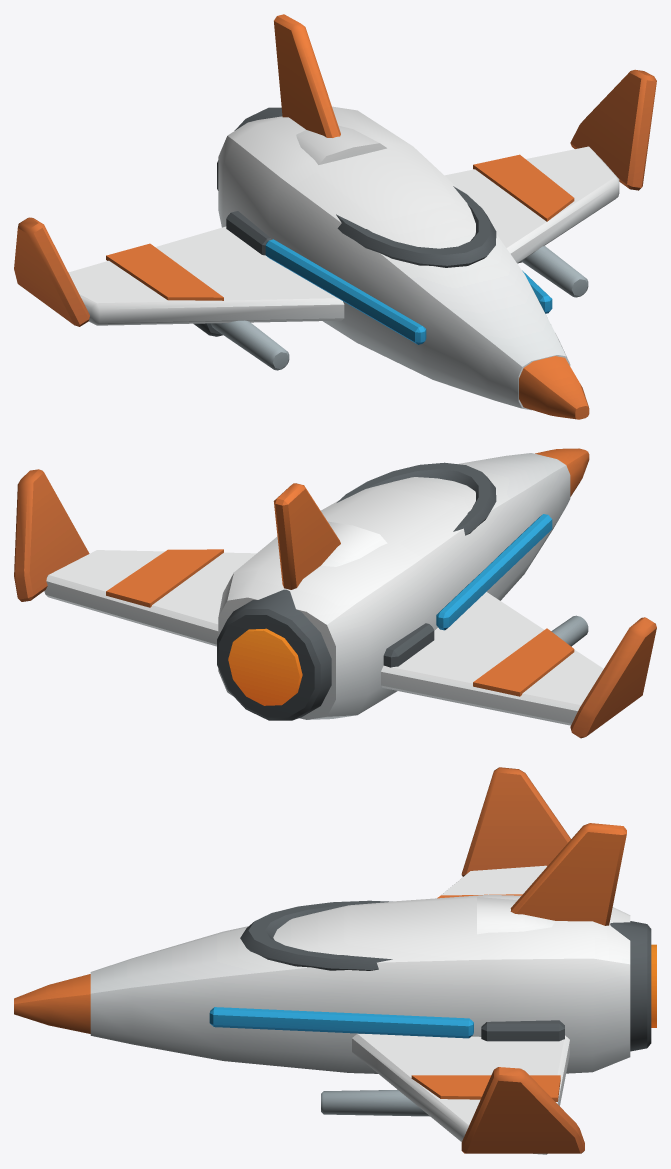
The model's file is nave.glb.
3 views of the same model, one above another, from view 1: azimuth 30°, elevation 25°; view 2: azimuth 150°, elevation 25°; view 3: azimuth 270°, elevation 25° (orthographic).
Parts seen in each view (by area): view 1: nave_corpo; view 2: nave_corpo; view 3: nave_corpo.
Part boxes in pixels (<box>): nave_corpo: <box>14,14,656,419</box>; nave_corpo: <box>14,448,656,738</box>; nave_corpo: <box>14,767,656,1154</box>.
Size of the model in its own units: 5.26 by 1.83 by 4.61.
3 materials, 3 textured.
